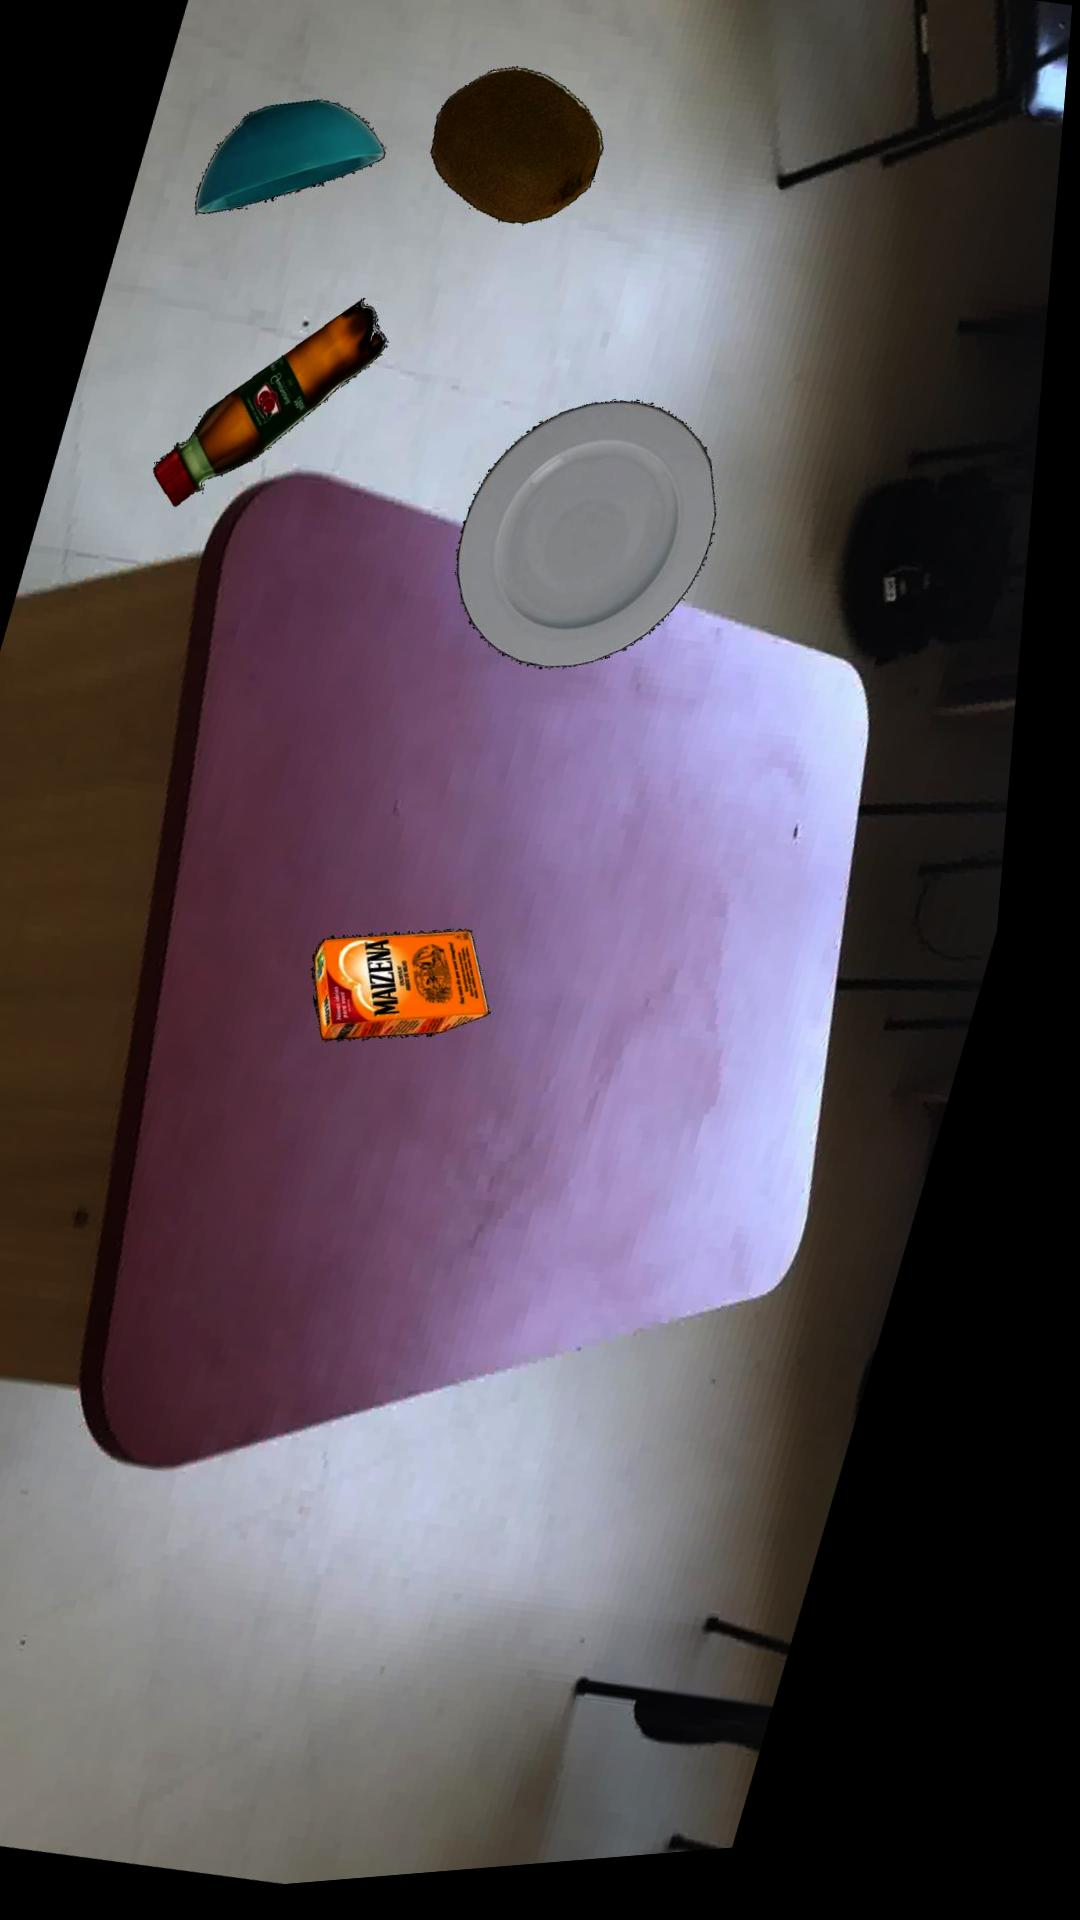bowl: (196, 107, 386, 219)
guarana: (160, 306, 390, 512)
kiwi: (431, 76, 604, 235)
plate: (464, 414, 724, 679)
